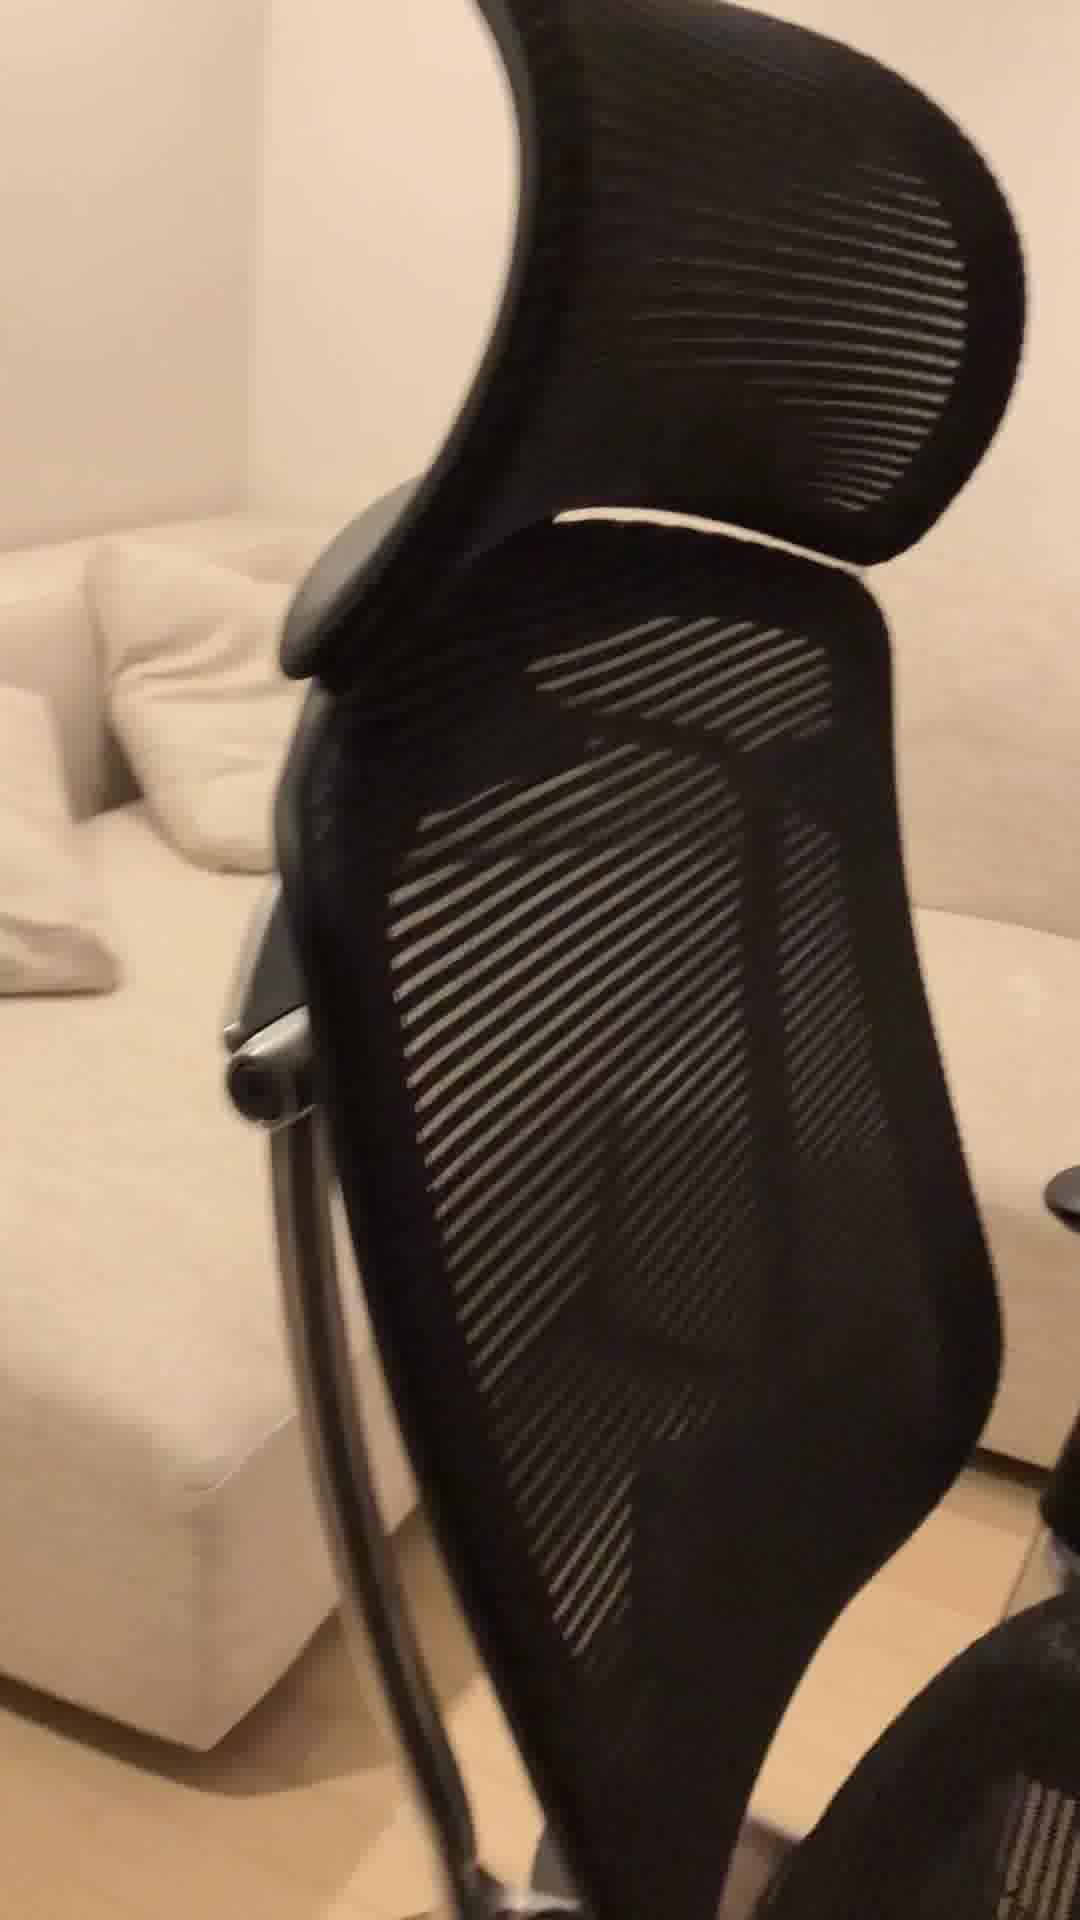okamura-contessa: (218, 0, 1080, 1920)
